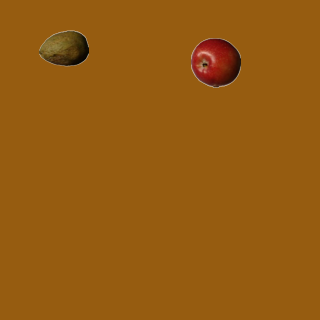Apple Braeburn: (190, 37, 240, 87)
Papaya: (38, 23, 88, 73)
